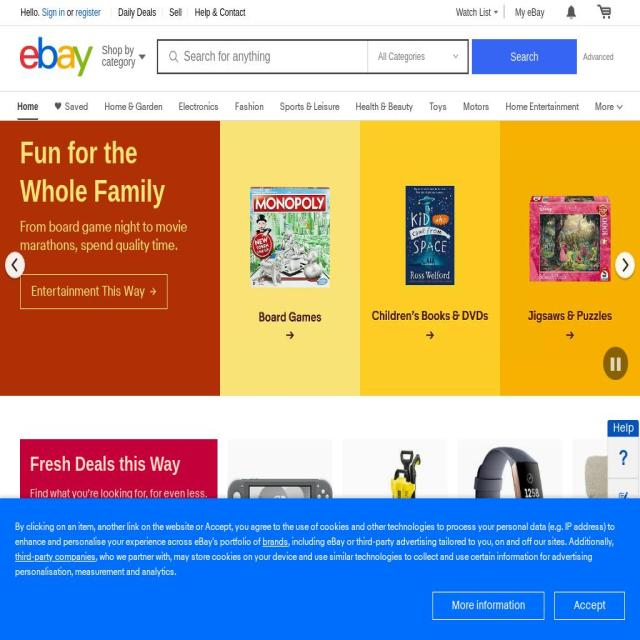button: (342, 439, 447, 623), (457, 439, 562, 623), (228, 439, 332, 608), (572, 439, 640, 608), (20, 274, 168, 314), (432, 592, 544, 620), (20, 36, 93, 76), (96, 36, 152, 72), (554, 592, 625, 620), (577, 40, 620, 73), (608, 478, 638, 520), (608, 437, 638, 478), (449, 1, 504, 22), (508, 1, 551, 22), (555, 1, 587, 22), (590, 1, 618, 22)
field: (159, 41, 365, 72), (472, 39, 577, 74), (368, 41, 468, 72)
heading: (20, 136, 165, 208), (20, 36, 176, 76), (30, 453, 181, 475), (608, 422, 638, 435)
image: (220, 158, 360, 358), (360, 158, 500, 358), (500, 158, 640, 358), (227, 446, 332, 572), (457, 446, 562, 572), (342, 448, 447, 570), (572, 438, 640, 580), (597, 4, 611, 19), (618, 450, 628, 465), (618, 492, 628, 506), (138, 54, 146, 60), (492, 10, 497, 15)
link: (15, 549, 96, 563), (506, 99, 580, 113), (104, 99, 164, 113), (280, 99, 340, 113), (356, 99, 414, 113), (194, 7, 246, 18), (179, 99, 219, 113), (118, 7, 157, 18), (386, 609, 418, 622), (498, 609, 530, 622), (235, 99, 264, 113), (342, 608, 371, 622), (463, 99, 490, 113), (457, 608, 483, 622), (263, 534, 288, 548), (65, 99, 89, 113), (76, 7, 101, 18), (42, 7, 66, 18), (430, 99, 448, 113), (169, 7, 182, 18)
text: (15, 519, 615, 548), (15, 549, 593, 578), (20, 218, 188, 254), (288, 534, 614, 548), (30, 486, 208, 502), (31, 282, 148, 300), (342, 592, 447, 608), (457, 592, 562, 608), (228, 592, 332, 608), (572, 592, 640, 608), (41, 524, 91, 542), (102, 44, 136, 68), (456, 6, 491, 18), (17, 101, 38, 120), (595, 99, 614, 113), (20, 7, 42, 18), (566, 4, 576, 20), (67, 7, 76, 18), (377, 607, 380, 623), (489, 607, 492, 623)
